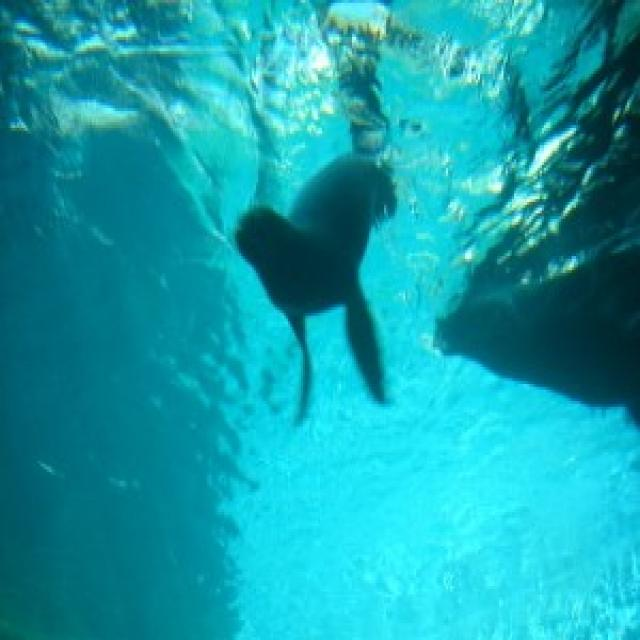Seal: (225, 146, 418, 444)
